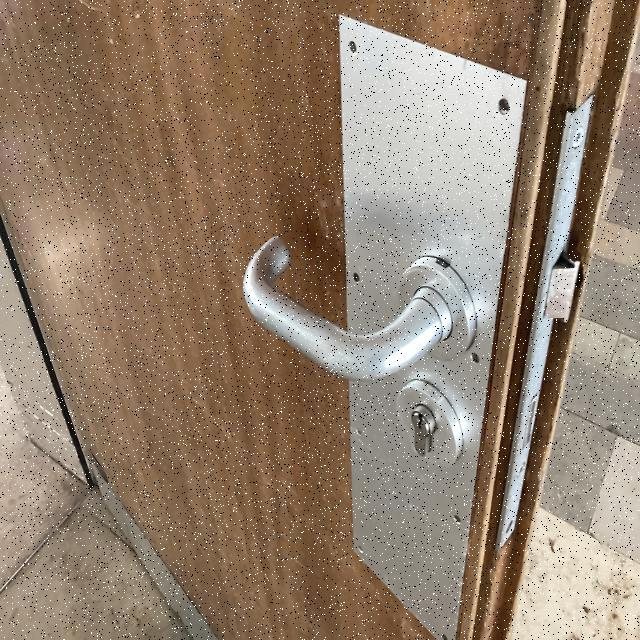doorhandle: (184, 198, 496, 487)
